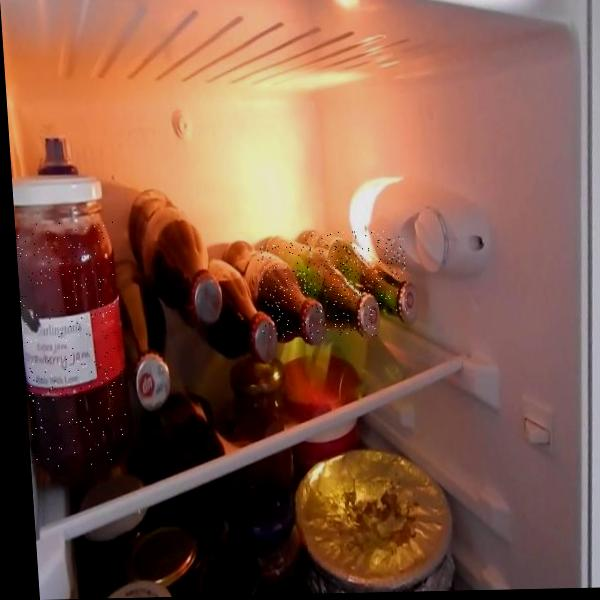mineral water: (257, 241, 378, 339), (304, 230, 409, 316)
tomato paste: (15, 221, 129, 466)
